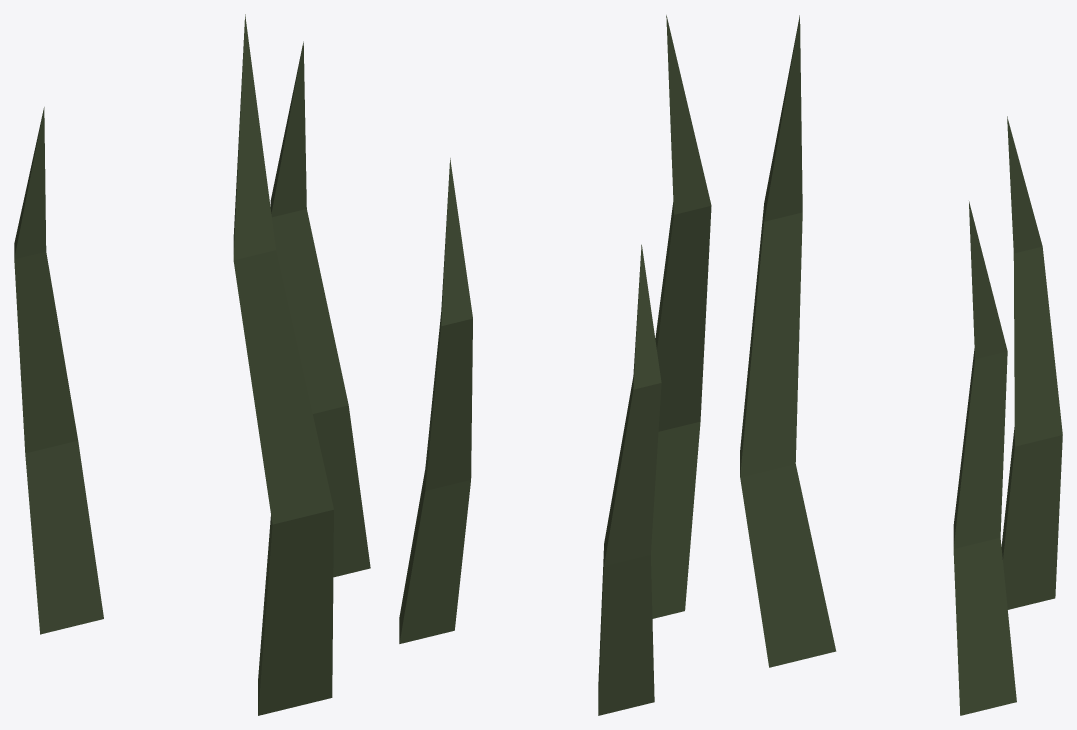
The model's file is Grass-simple.fbx.
The picture shows the model from 3 angles, left to right: view 1: azimuth 30°, elevation 25°; view 2: azimuth 150°, elevation 25°; view 3: azimuth 270°, elevation 25°; orthographic projection. The views are drawn at different scales.
Visible parts, largest first — view 1: grass-simple; view 2: grass-simple; view 3: grass-simple.
Part boxes in pixels (x1,y1,x2,y2): grass-simple: (14, 14, 370, 715); grass-simple: (399, 15, 711, 715); grass-simple: (740, 15, 1062, 715).
Size of the model in its own units: 11.05 by 22.25 by 10.45.
